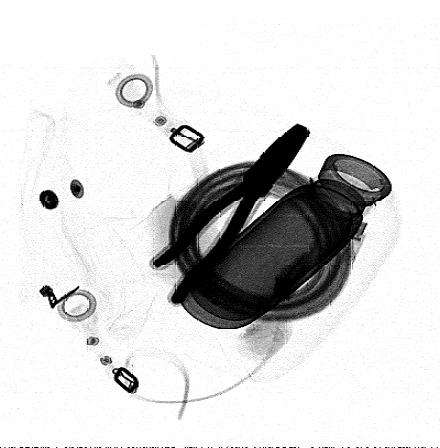Pliers: (150, 122, 312, 307)
